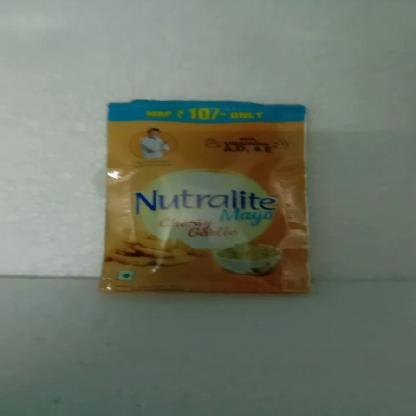Nutralite CHEESY GARLIC MAYO 30g: (108, 101, 308, 296)
